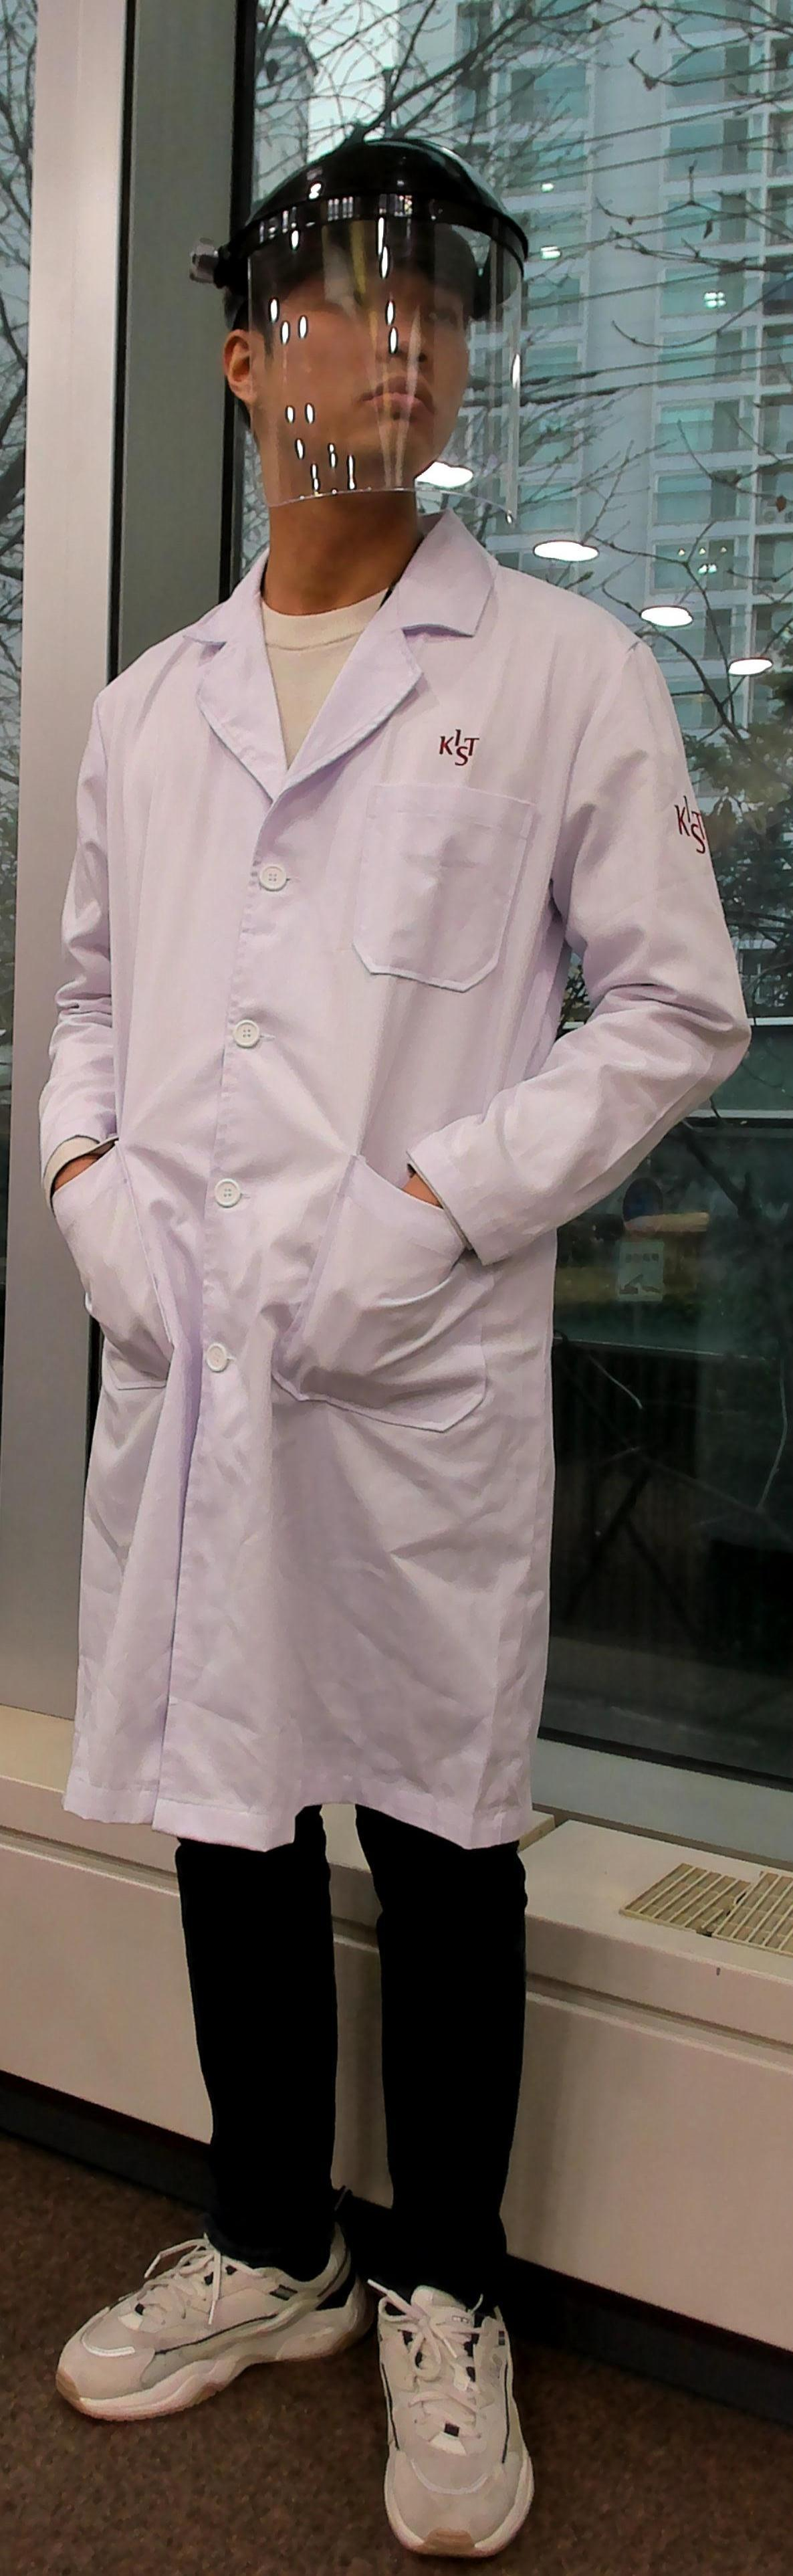lab_coat: (23, 583, 603, 1810)
